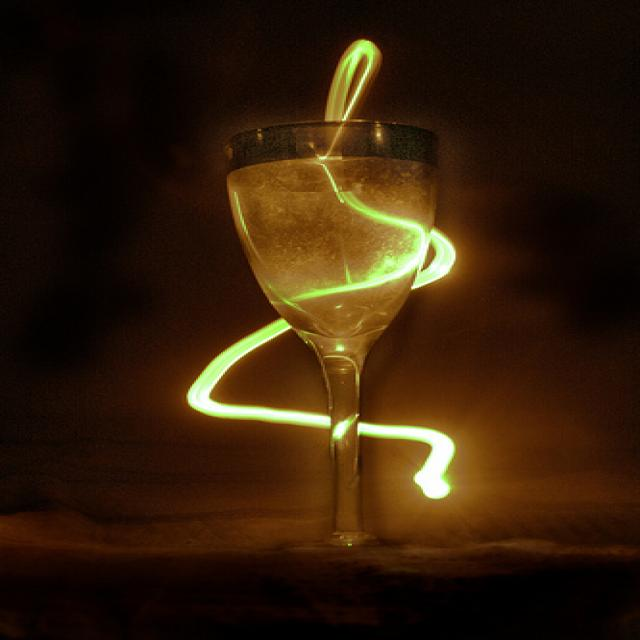Cup: (226, 120, 464, 585)
